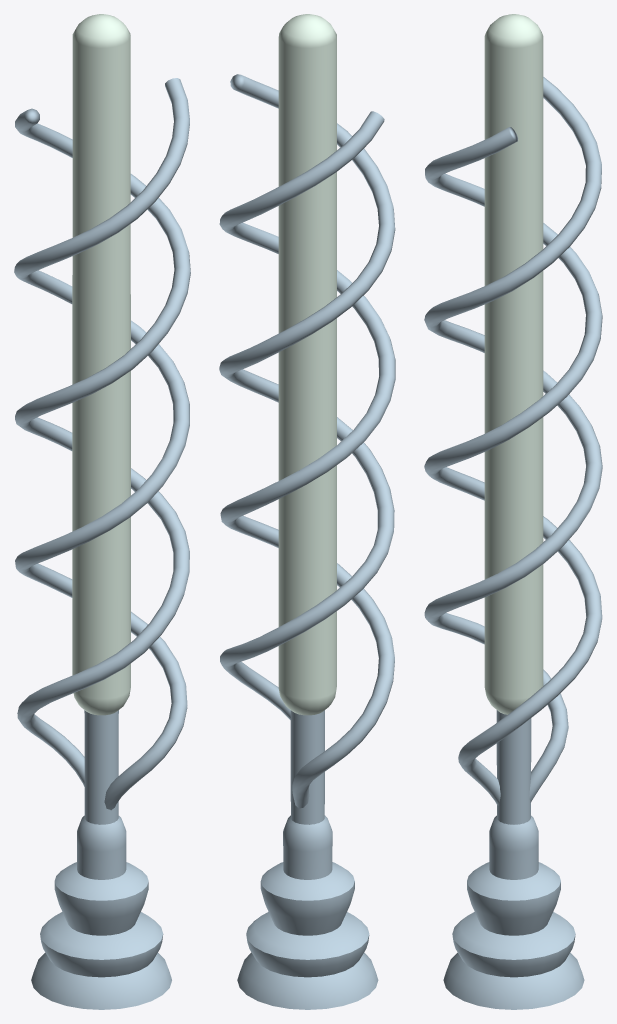
File: streetlight_25.fbx
3 views of the same model, side by side, from view 1: azimuth 30°, elevation 25°; view 2: azimuth 150°, elevation 25°; view 3: azimuth 270°, elevation 25° (orthographic).
Parts seen in each view (by area): view 1: pSphere25, streetlight_25, corker2, corker1; view 2: pSphere25, streetlight_25, corker1, corker2; view 3: pSphere25, streetlight_25, corker1, corker2.
Part boxes in pixels (box(x1,y1,x2,y2)): pSphere25: box(72, 14, 130, 824); streetlight_25: box(31, 815, 171, 1009); corker2: box(14, 78, 189, 810); corker1: box(15, 108, 190, 786); pSphere25: box(278, 14, 336, 824); streetlight_25: box(237, 815, 378, 1009); corker1: box(219, 111, 395, 808); corker2: box(219, 74, 395, 719); pSphere25: box(484, 14, 543, 824); streetlight_25: box(443, 815, 584, 1009); corker1: box(424, 77, 602, 802); corker2: box(424, 127, 602, 805).
Bounding box in the file's own units: 1.45 × 8.64 × 1.45.
